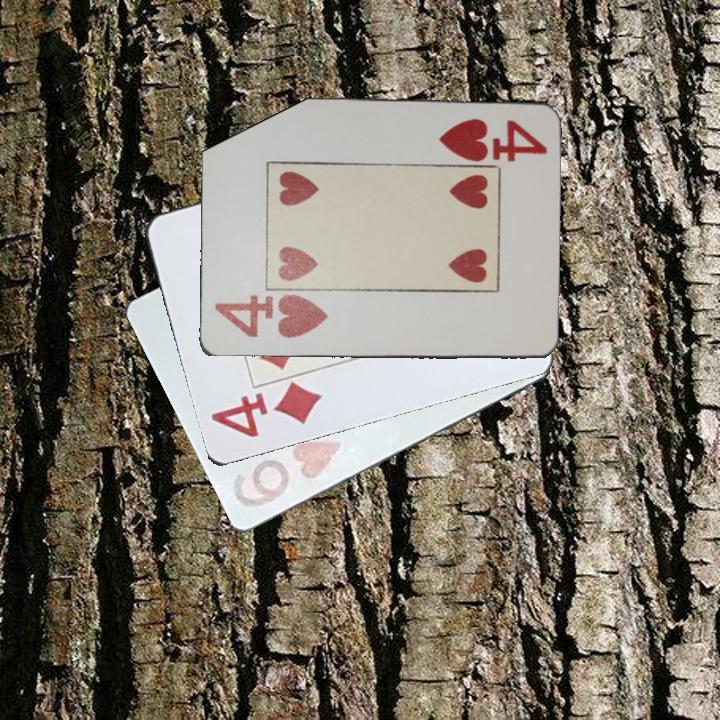4d: (207, 379, 325, 441)
4h: (211, 293, 330, 342), (434, 115, 550, 163)
6h: (228, 437, 348, 516)
